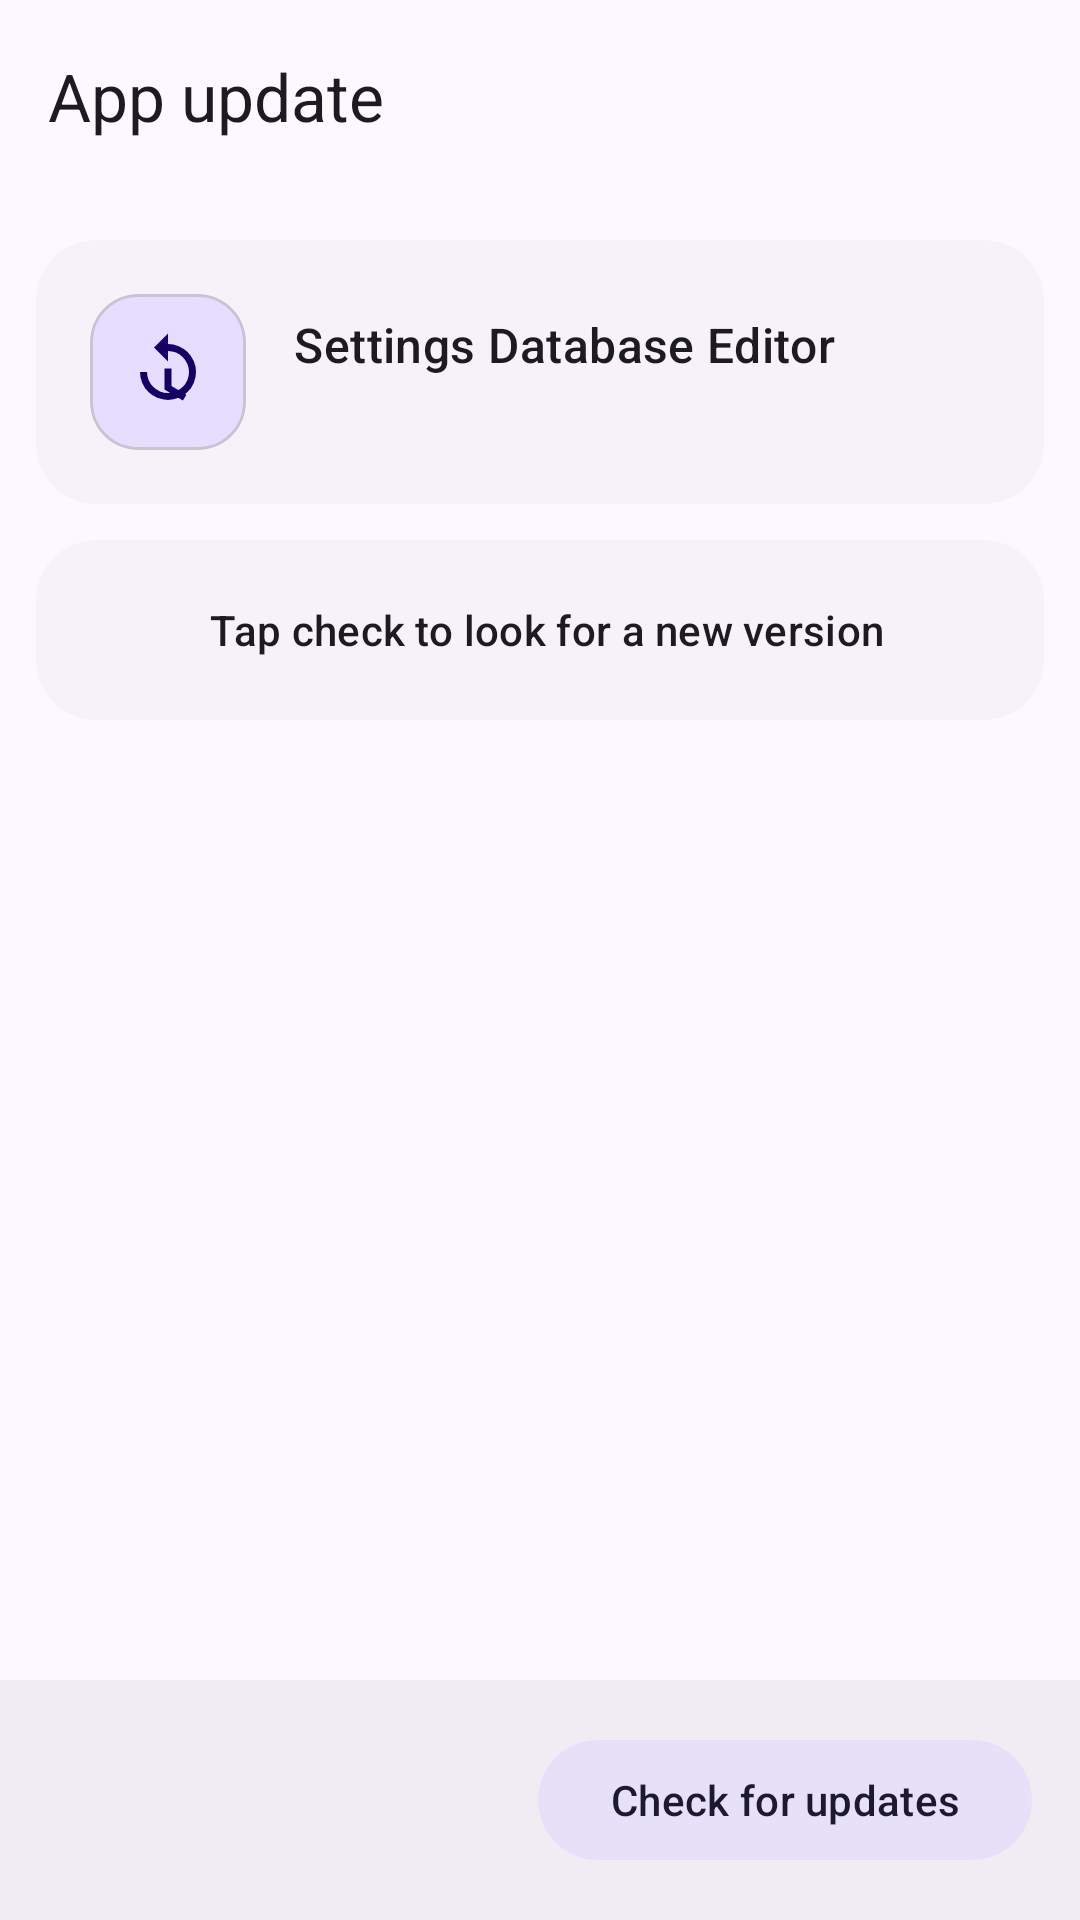

Named icons in this screenshot (1080x1920) and their bounding boxes, (x1, y1, x2, y2):
update: (140, 333, 196, 401)
